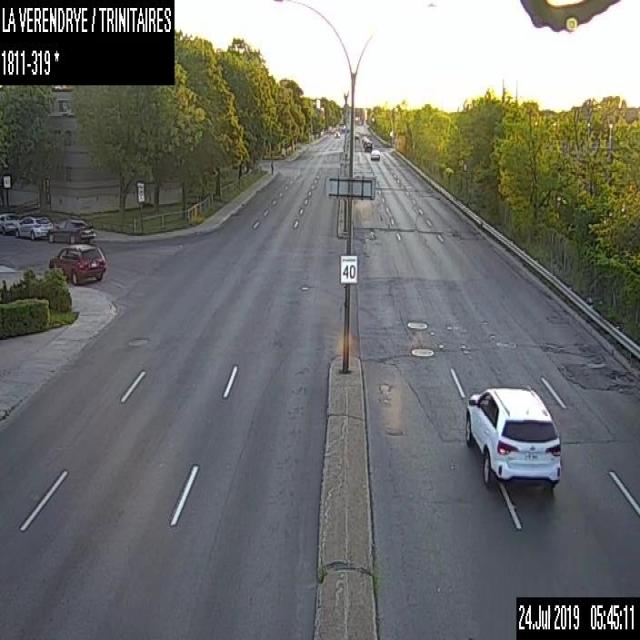vehicle: (465, 385, 562, 492), (48, 242, 107, 286), (47, 217, 95, 244), (15, 214, 53, 238), (0, 211, 18, 234), (370, 148, 379, 160), (364, 140, 372, 151), (333, 127, 340, 137), (362, 138, 368, 147), (361, 136, 365, 142), (354, 132, 358, 138)
